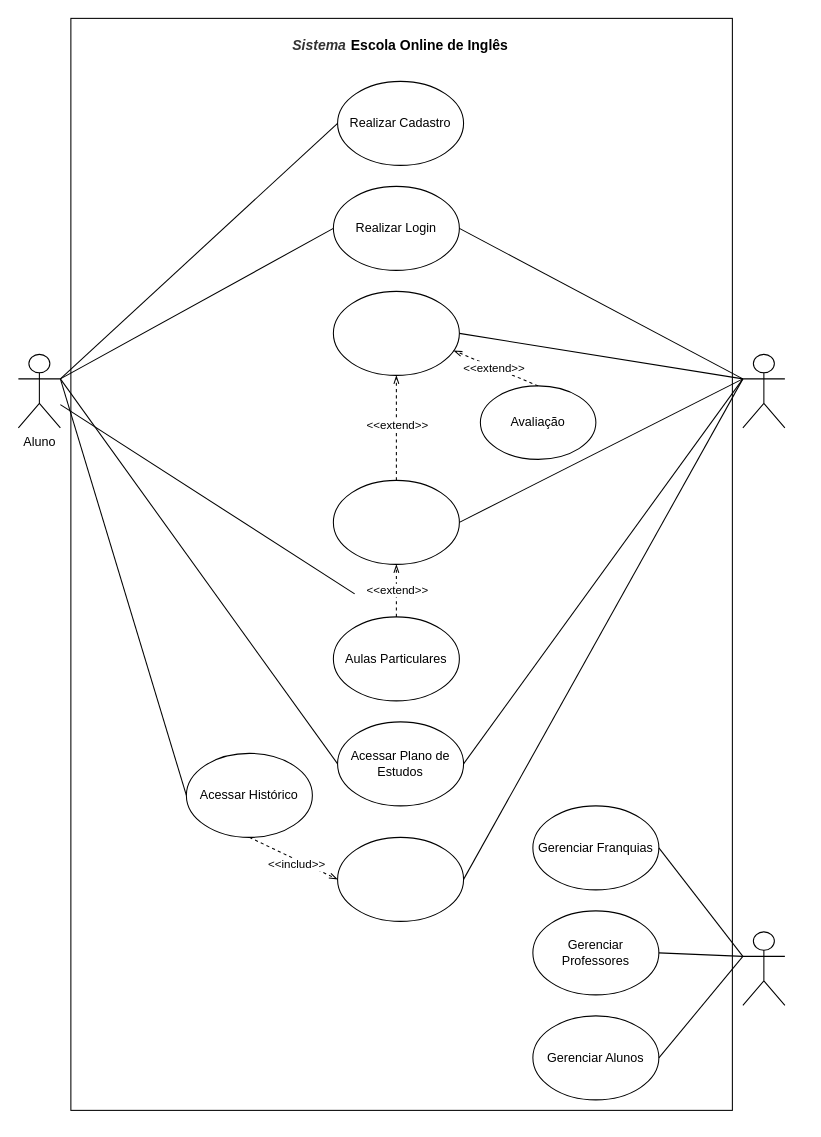
This 821x1137 diagram has some shape labels left out. The centre of each missing label's shape, as x and y in pixels:
Administrador: point (763, 968)
Gerenciar aulas: point (395, 521)
Gerenciar Turma: point (395, 332)
Professor: point (763, 390)
Visualizar Progresso: point (400, 878)
